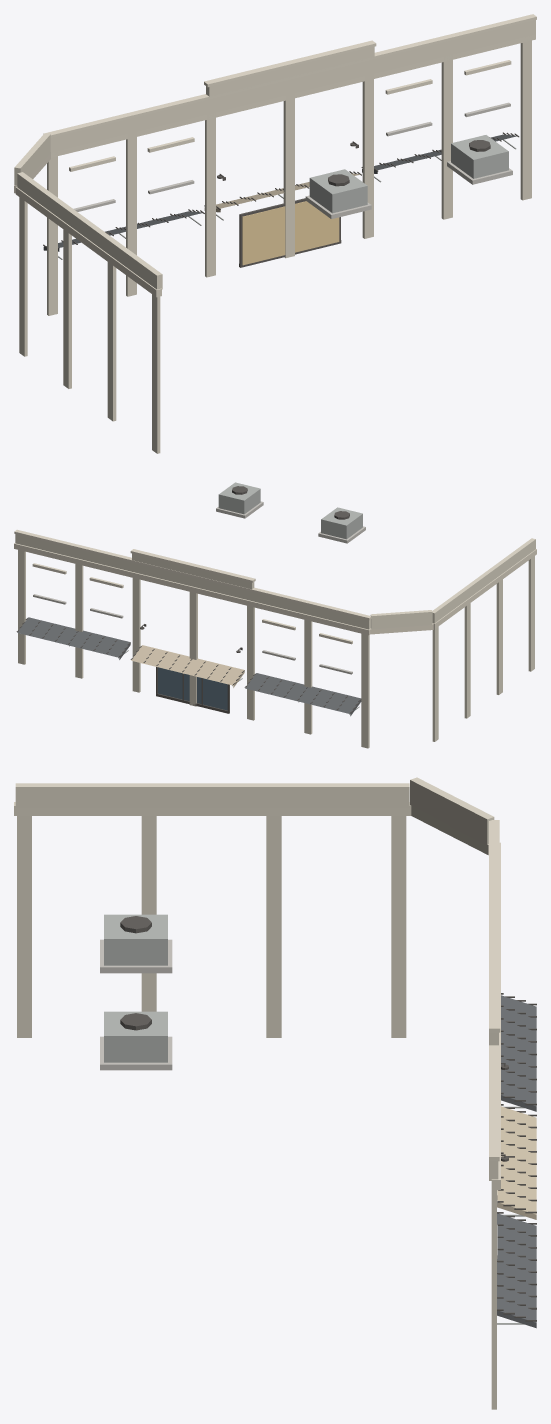
File: planters_dressing.glb
3 views of the same model, one above another, from view 1: azimuth 30°, elevation 25°; view 2: azimuth 150°, elevation 25°; view 3: azimuth 270°, elevation 25° (orthographic). The views are drawn at different scales.
Visible parts, largest first — view 1: PlantersDressing; view 2: PlantersDressing; view 3: PlantersDressing.
Part boxes in pixels (bbox=[...]): PlantersDressing: bbox=[14, 14, 536, 453]; PlantersDressing: bbox=[14, 482, 536, 748]; PlantersDressing: bbox=[14, 777, 536, 1409].
Size of the model in its own units: 27.23 by 9.19 by 15.93.
